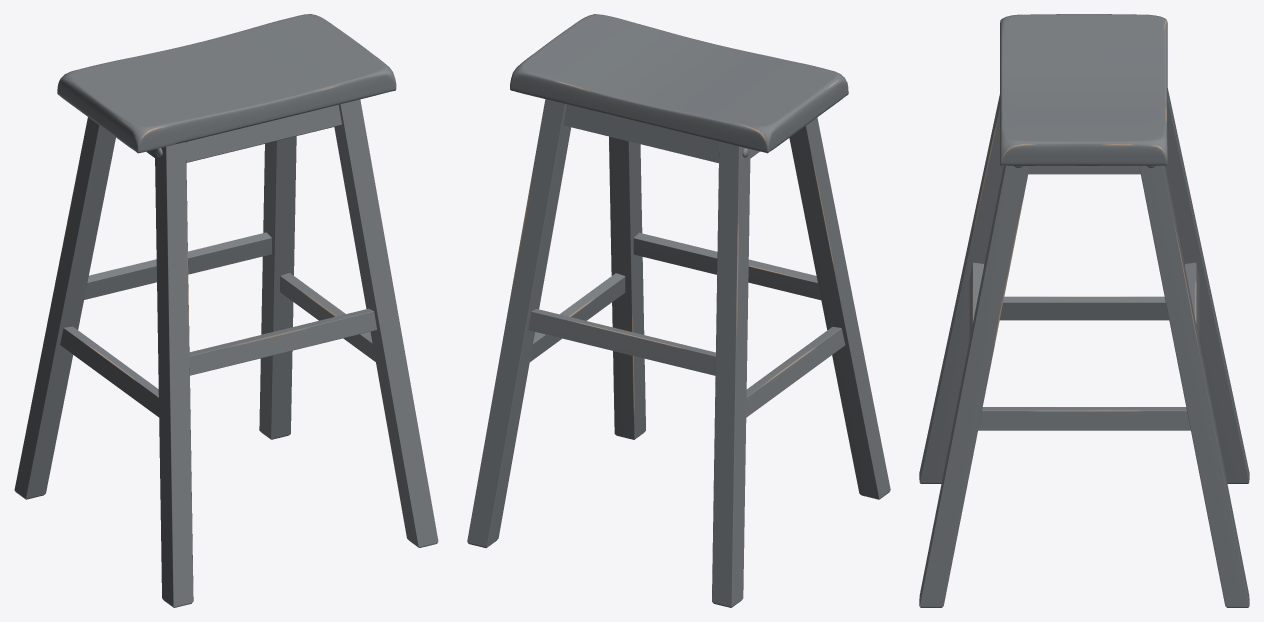
File: stool_B07B79GMHH.glb
The picture shows the model from 3 angles, left to right: view 1: azimuth 30°, elevation 25°; view 2: azimuth 150°, elevation 25°; view 3: azimuth 270°, elevation 25°; orthographic projection. The views are drawn at different scales.
Parts seen in each view (by area): view 1: RootNode; view 2: RootNode; view 3: RootNode.
Part boxes in pixels (bbox=[...]): RootNode: bbox=[14, 14, 438, 607]; RootNode: bbox=[467, 14, 890, 607]; RootNode: bbox=[919, 14, 1249, 607].
Bounding box in the file's own units: 0.4575 × 0.7374 × 0.4759.
1 material, 1 textured.
